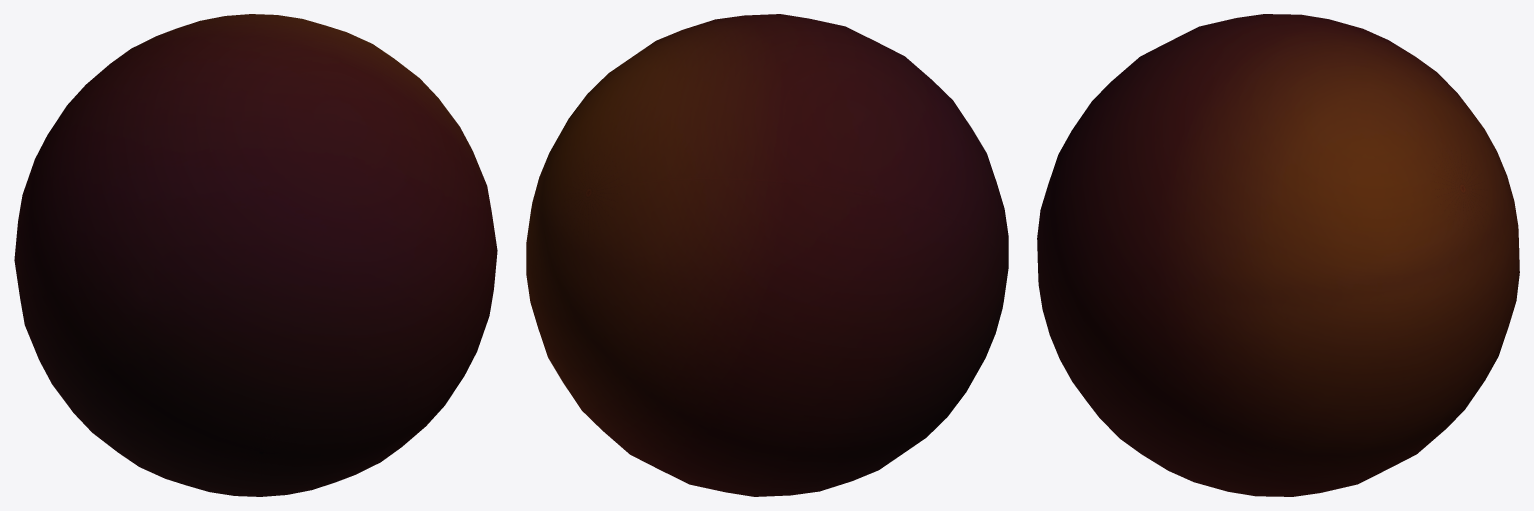
The model's file is Mountains.glb.
The picture shows the model from 3 angles, left to right: view 1: azimuth 30°, elevation 25°; view 2: azimuth 150°, elevation 25°; view 3: azimuth 270°, elevation 25°; orthographic projection.
Parts seen in each view (by area): view 1: Sphere; view 2: Sphere; view 3: Sphere.
Boxes of the visible parts, x1,y1,x2,y2 form: Sphere: [14, 14, 497, 496]; Sphere: [526, 14, 1008, 496]; Sphere: [1037, 14, 1519, 496].
Size of the model in its own units: 232 by 233 by 232.
Materials: 4 (2 with a texture image).
